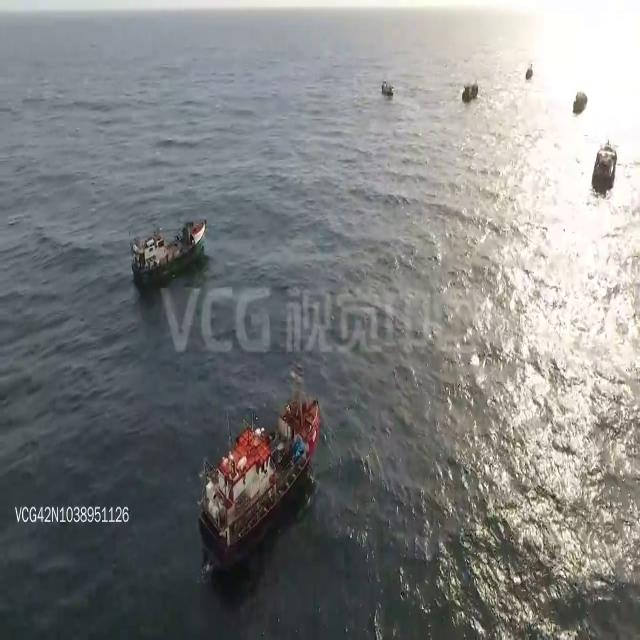fishing boat: (194, 372, 321, 566), (125, 216, 209, 282)
